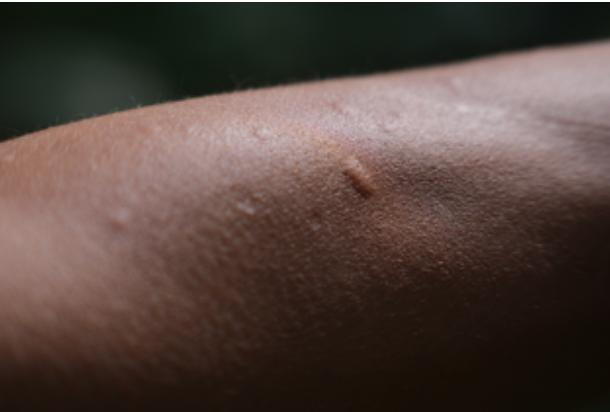Mosquito: (309, 134, 413, 222)
